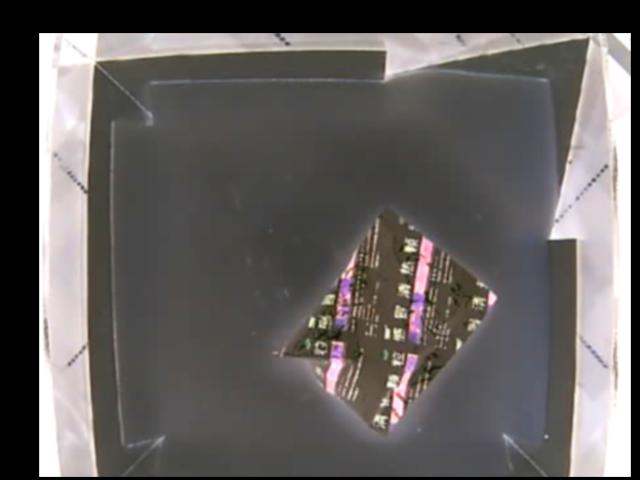Medicine: (268, 205, 497, 435)
